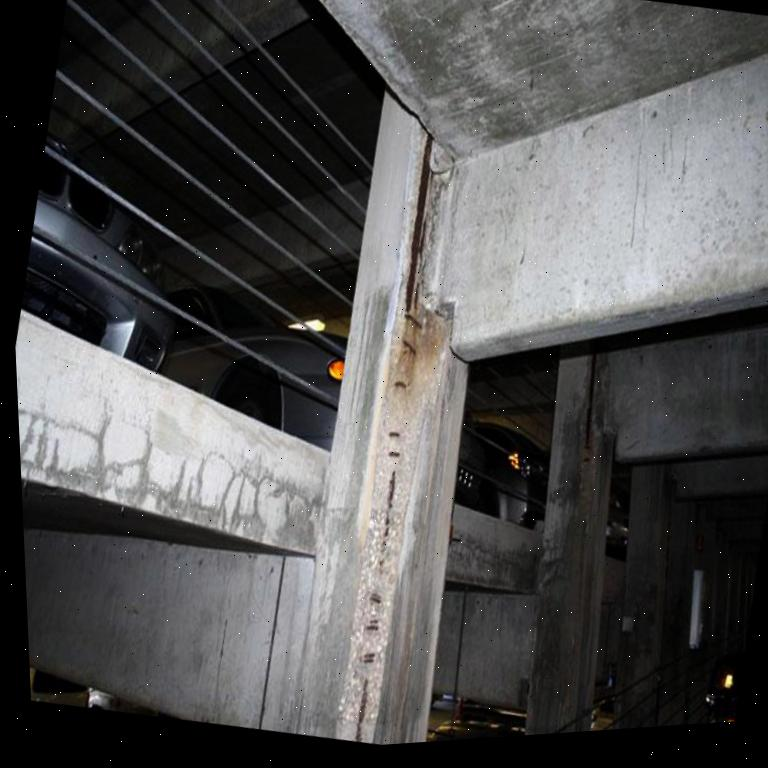exposed_rebar: (406, 136, 432, 314), (381, 470, 396, 553), (355, 679, 368, 742), (405, 312, 422, 327), (388, 471, 394, 508), (362, 653, 375, 663), (384, 513, 389, 536), (404, 341, 414, 352), (370, 592, 380, 603), (370, 594, 382, 603), (367, 620, 379, 628), (395, 381, 406, 388), (388, 432, 400, 437), (390, 451, 400, 456), (380, 558, 385, 566)
spalling: (334, 135, 447, 744)
